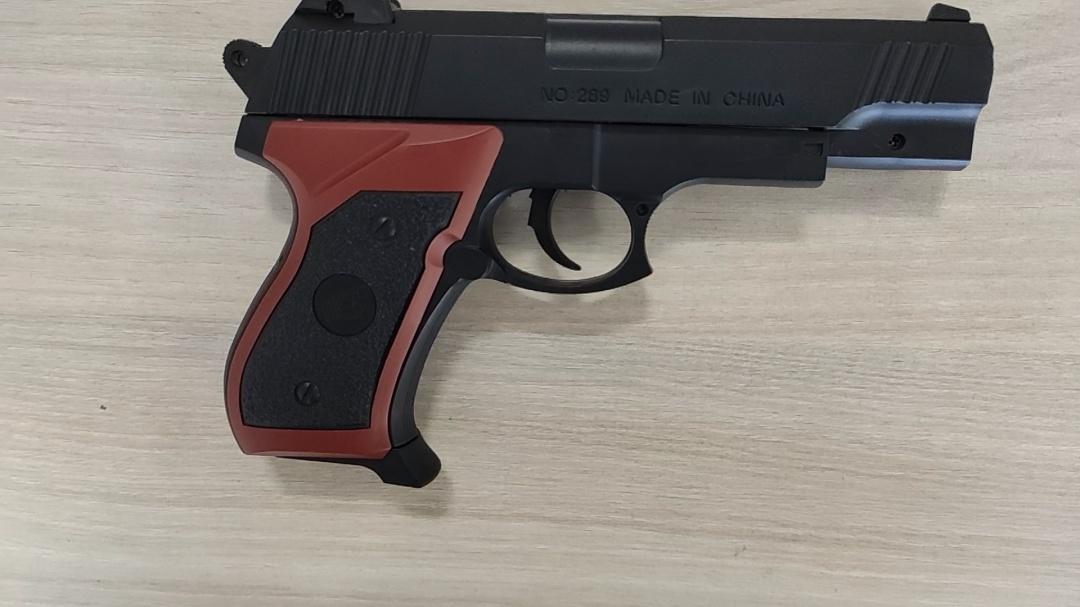gun: (494, 69, 729, 338)
